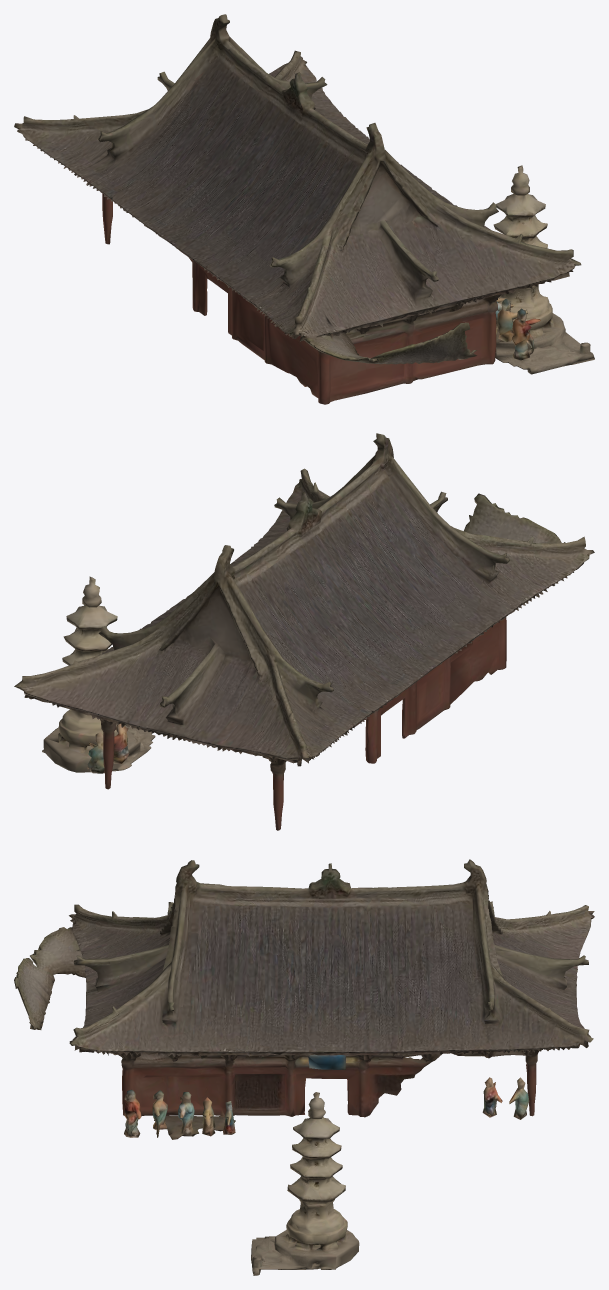
The model's file is building-faxingsi.glb.
The picture shows the model from 3 angles, top to bottom: view 1: azimuth 30°, elevation 25°; view 2: azimuth 150°, elevation 25°; view 3: azimuth 270°, elevation 25°; orthographic projection. The views are drawn at different scales.
Visible parts, largest first — view 1: node_a04725a8-8e00-4874-a2e7-ffe2b92cf369; view 2: node_a04725a8-8e00-4874-a2e7-ffe2b92cf369; view 3: node_a04725a8-8e00-4874-a2e7-ffe2b92cf369.
Boxes of the visible parts, x1,y1,x2,y2 form: node_a04725a8-8e00-4874-a2e7-ffe2b92cf369: [14, 14, 594, 404]; node_a04725a8-8e00-4874-a2e7-ffe2b92cf369: [14, 433, 594, 830]; node_a04725a8-8e00-4874-a2e7-ffe2b92cf369: [14, 859, 594, 1275].
Bounding box in the file's own units: 0.7391 × 0.5698 × 1.
1 material, 1 textured.
